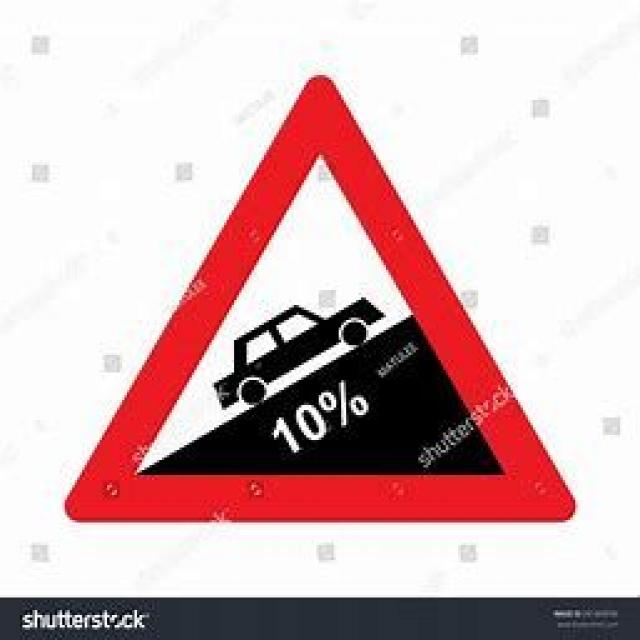STEEP_ASCENT: (62, 73, 576, 525)
